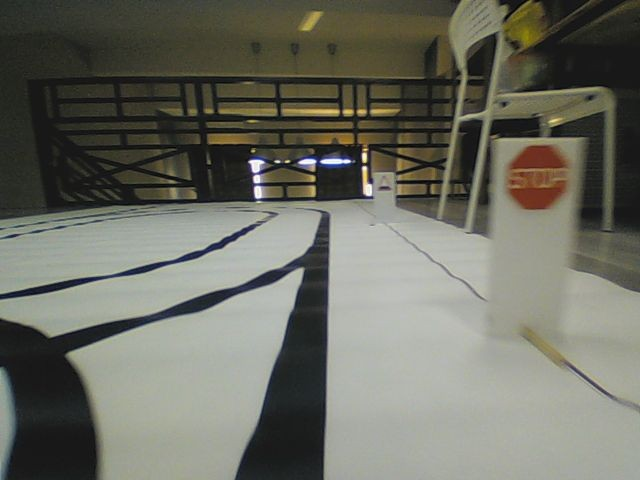Stop: (505, 142, 569, 211)
